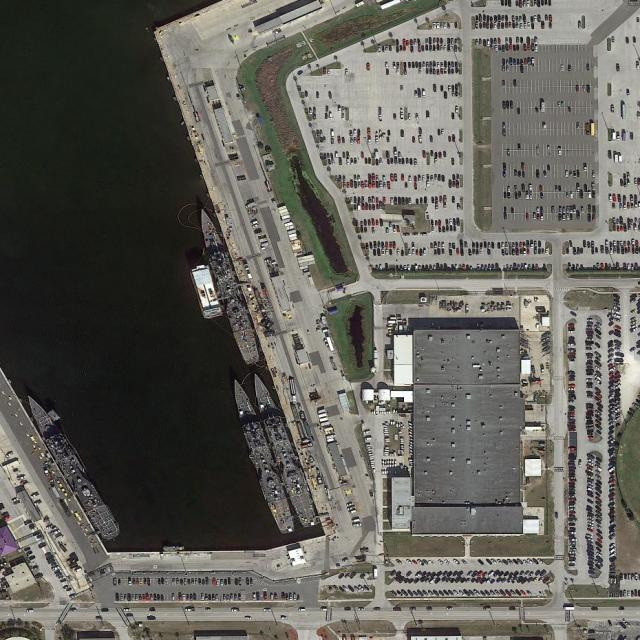Frigate: (23, 389, 121, 542), (245, 368, 318, 528), (192, 204, 261, 367), (226, 378, 297, 536)
